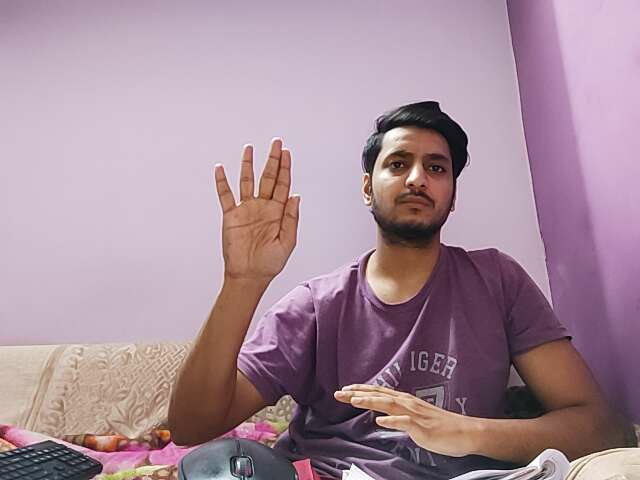LiveLong: (205, 135, 307, 295)
